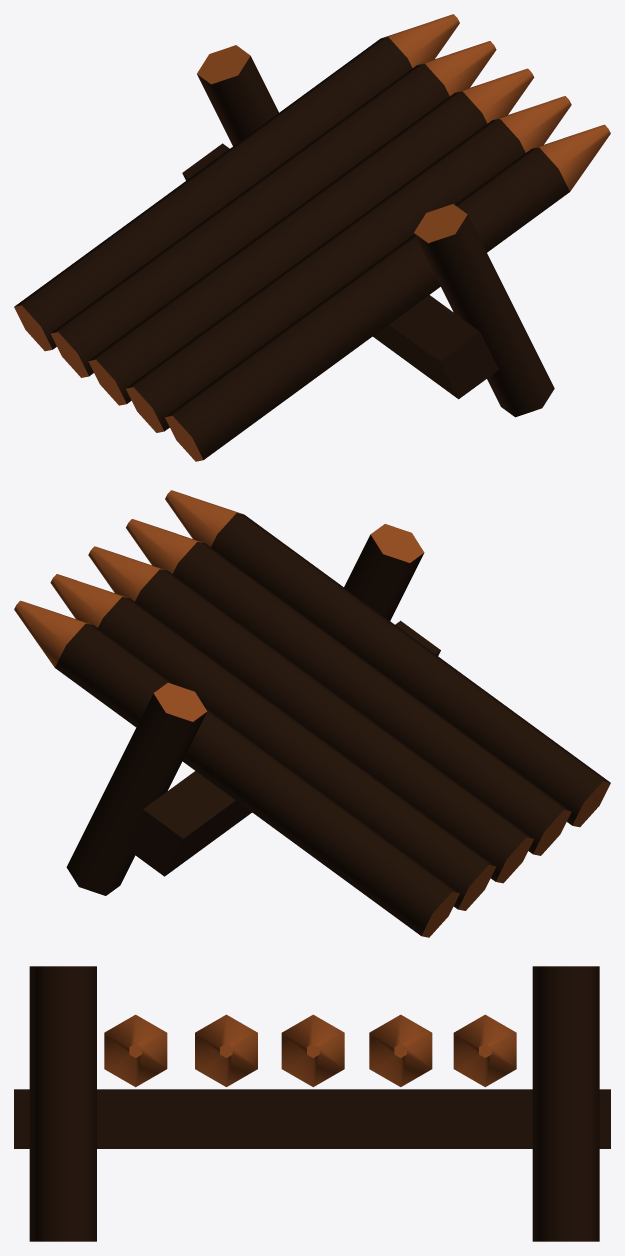
Rendered from wooden_barricade_spikes.FBX.
3 renders of one model, top to bottom at view 1: azimuth 30°, elevation 25°; view 2: azimuth 150°, elevation 25°; view 3: azimuth 270°, elevation 25°, orthographic. The views are drawn at different scales.
Visible parts, largest first — view 1: Zylinder010, Zylinder015, Zylinder016, Zylinder017, Zylinder018, Zylinder011, Quader001, Zylinder014; view 2: Zylinder018, Zylinder010, Zylinder017, Zylinder015, Zylinder016, Zylinder014, Quader001, Zylinder011; view 3: Quader001, Zylinder011, Zylinder014, Zylinder010, Zylinder017, Zylinder018, Zylinder016, Zylinder015.
Boxes of the visible parts, left/top/right/bottom form: Zylinder010: left=165, top=124, right=610, bottom=461; Zylinder015: left=126, top=96, right=571, bottom=432; Zylinder016: left=50, top=41, right=496, bottom=377; Zylinder017: left=88, top=68, right=534, bottom=405; Zylinder018: left=14, top=14, right=459, bottom=351; Zylinder011: left=414, top=204, right=554, bottom=417; Quader001: left=182, top=143, right=498, bottom=399; Zylinder014: left=197, top=45, right=278, bottom=146; Zylinder018: left=14, top=600, right=459, bottom=937; Zylinder010: left=165, top=490, right=610, bottom=827; Zylinder017: left=88, top=546, right=533, bottom=883; Zylinder015: left=126, top=519, right=571, bottom=855; Zylinder016: left=50, top=574, right=496, bottom=910; Zylinder014: left=66, top=682, right=207, bottom=895; Quader001: left=124, top=620, right=440, bottom=876; Zylinder011: left=344, top=524, right=424, bottom=620; Quader001: left=14, top=1089, right=610, bottom=1148; Zylinder011: left=29, top=966, right=96, bottom=1241; Zylinder014: left=532, top=966, right=599, bottom=1241; Zylinder010: left=104, top=1014, right=167, bottom=1087; Zylinder017: left=281, top=1014, right=344, bottom=1087; Zylinder018: left=453, top=1014, right=516, bottom=1087; Zylinder016: left=369, top=1014, right=432, bottom=1086; Zylinder015: left=195, top=1014, right=257, bottom=1086.
Bounding box in the file's own units: 1.36 × 1.39 × 0.7088.
